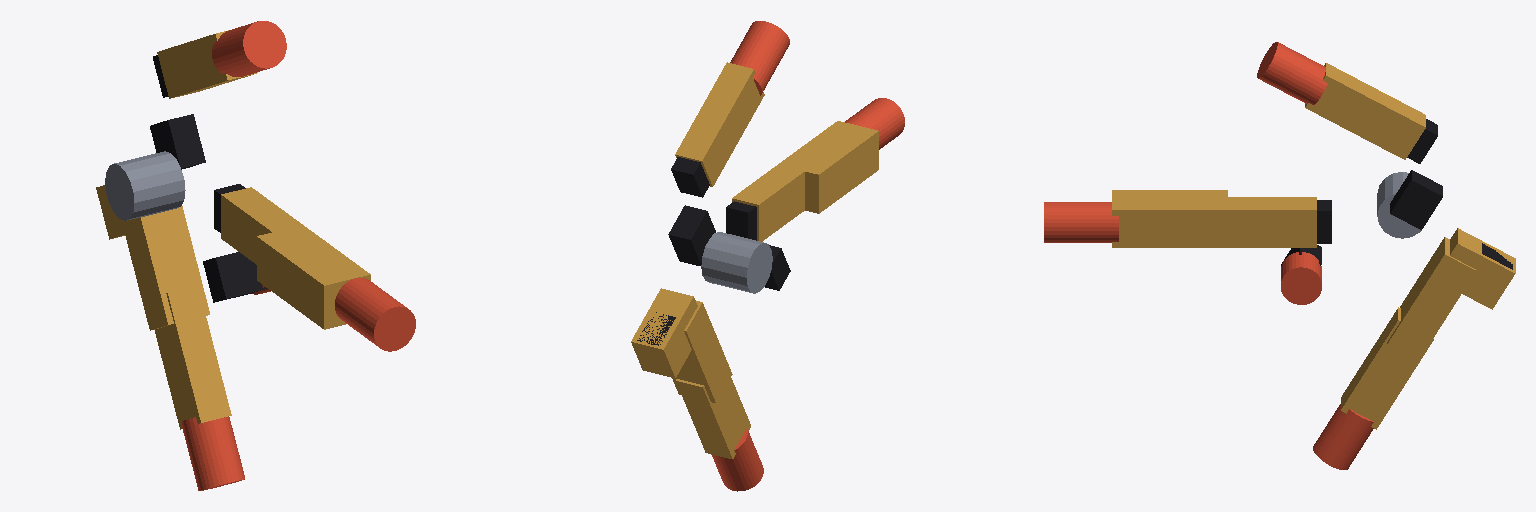
The robot description file, URDF, robot "g0040_c12":
<robot name="g0040_c12">
  <link name="palm">
    <visual name="palm_palm1">
      <origin xyz="0 0 0" rpy="0 0 0" />
      <geometry>
        <mesh filename="palm_palm1.obj" />
      </geometry>
      <material name="palm_palm1_mat">
        <color rgba="0.55 0.57 0.62 1" />
      </material>
    </visual>
    <collision>
      <origin xyz="0 0 0" rpy="0 0 0" />
      <geometry>
        <mesh filename="palm_palm1.obj" />
      </geometry>
    </collision>
    <visual name="palm_mount2">
      <origin xyz="0 0 0" rpy="0 0 0" />
      <geometry>
        <mesh filename="palm_mount2.obj" />
      </geometry>
      <material name="palm_mount2_mat">
        <color rgba="0.55 0.57 0.62 1" />
      </material>
    </visual>
    <collision>
      <origin xyz="0 0 0" rpy="0 0 0" />
      <geometry>
        <mesh filename="palm_mount2.obj" />
      </geometry>
    </collision>
    <visual name="palm_hinge3">
      <origin xyz="0 0.01125 0.0194855716" rpy="-1.57079633 0.523598776 1.57079633" />
      <geometry>
        <box size="0.029 0.034 0.02" />
      </geometry>
      <material name="palm_hinge3_mat">
        <color rgba="0.15 0.15 0.17 1" />
      </material>
    </visual>
    <collision>
      <origin xyz="0 0.01125 0.0194855716" rpy="-1.57079633 0.523598776 1.57079633" />
      <geometry>
        <box size="0.029 0.034 0.02" />
      </geometry>
    </collision>
    <visual name="palm_motor4">
      <origin xyz="-0.007 -0.08 -0.04" rpy="1.06057524e-16 -1.04719755 1.57079633" />
      <geometry>
        <box size="0.029 0.034 0.02" />
      </geometry>
      <material name="palm_motor4_mat">
        <color rgba="0.15 0.15 0.17 1" />
      </material>
    </visual>
    <collision>
      <origin xyz="-0.007 -0.08 -0.04" rpy="1.06057524e-16 -1.04719755 1.57079633" />
      <geometry>
        <box size="0.029 0.034 0.02" />
      </geometry>
    </collision>
    <visual name="palm_motor5">
      <origin xyz="0 -0.0725 1.37772765e-18" rpy="-0 -1.57079633 0" />
      <geometry>
        <box size="0.029 0.034 0.02" />
      </geometry>
      <material name="palm_motor5_mat">
        <color rgba="0.15 0.15 0.17 1" />
      </material>
    </visual>
    <collision>
      <origin xyz="0 -0.0725 1.37772765e-18" rpy="-0 -1.57079633 0" />
      <geometry>
        <box size="0.029 0.034 0.02" />
      </geometry>
    </collision>
    <visual name="palm_motor6">
      <origin xyz="-0.0045 0.0666996732 -0.0467548095" rpy="1.57079633 -0.523598776 -1.57079633" />
      <geometry>
        <box size="0.029 0.034 0.02" />
      </geometry>
      <material name="palm_motor6_mat">
        <color rgba="0.15 0.15 0.17 1" />
      </material>
    </visual>
    <collision>
      <origin xyz="-0.0045 0.0666996732 -0.0467548095" rpy="1.57079633 -0.523598776 -1.57079633" />
      <geometry>
        <box size="0.029 0.034 0.02" />
      </geometry>
    </collision>
    <inertial>
      <origin xyz="3.71811192e-19 -0.0129143429 -0.0183623571" rpy="1.57079633 0.271896852 1.57079633" />
      <mass value="0.664453576" />
      <inertia ixx="0.000524977352" ixy="0" ixz="0" iyy="0.00162295304" iyz="0" izz="0.00208414285" />
    </inertial>
  </link>
  <link name="palm0">
    <visual name="palm0_palm1">
      <origin xyz="0 0 0" rpy="0 0 0" />
      <geometry>
        <mesh filename="palm0_palm1.obj" />
      </geometry>
      <material name="palm0_palm1_mat">
        <color rgba="0.55 0.57 0.62 1" />
      </material>
    </visual>
    <collision>
      <origin xyz="0 0 0" rpy="0 0 0" />
      <geometry>
        <mesh filename="palm0_palm1.obj" />
      </geometry>
    </collision>
    <visual name="palm0_motor2">
      <origin xyz="0 -0.00850480947 0.0502692379" rpy="-1.57079633 -1.04719755 1.57079633" />
      <geometry>
        <box size="0.029 0.034 0.02" />
      </geometry>
      <material name="palm0_motor2_mat">
        <color rgba="0.15 0.15 0.17 1" />
      </material>
    </visual>
    <collision>
      <origin xyz="0 -0.00850480947 0.0502692379" rpy="-1.57079633 -1.04719755 1.57079633" />
      <geometry>
        <box size="0.029 0.034 0.02" />
      </geometry>
    </collision>
    <inertial>
      <origin xyz="0 0.000296623213 0.0290501618" rpy="1.57079633 0.698813385 1.57079633" />
      <mass value="0.183002711" />
      <inertia ixx="4.12828599e-05" ixy="0" ixz="0" iyy="0.000167965422" iyz="0" izz="0.000191680022" />
    </inertial>
  </link>
  <link name="f0_link0">
    <visual name="f0_link0_link1">
      <origin xyz="0.019 0 -6.9388939e-18" rpy="-1.57079633 -0 -1.57079633" />
      <geometry>
        <cylinder radius="0.0165" length="0.029" />
      </geometry>
      <material name="f0_link0_link1_mat">
        <color rgba="0.85 0.35 0.25 1" />
      </material>
    </visual>
    <collision>
      <origin xyz="0.019 0 -6.9388939e-18" rpy="-1.57079633 -0 -1.57079633" />
      <geometry>
        <cylinder radius="0.0165" length="0.029" />
      </geometry>
    </collision>
    <inertial>
      <origin xyz="0.019 0 0" rpy="0 0 0" />
      <mass value="0.0763354" />
      <inertia ixx="9.49466441e-06" ixy="0" ixz="0" iyy="2.24143997e-05" iyz="0" izz="2.24143997e-05" />
    </inertial>
  </link>
  <link name="f1_link0">
    <visual name="f1_link0_link1">
      <origin xyz="0.03375 0 0" rpy="0 -0 0" />
      <geometry>
        <box size="0.0915 0.024 0.033" />
      </geometry>
      <material name="f1_link0_link1_mat">
        <color rgba="0.80 0.62 0.30 1" />
      </material>
    </visual>
    <collision>
      <origin xyz="0.03375 0 0" rpy="0 -0 0" />
      <geometry>
        <box size="0.0915 0.024 0.033" />
      </geometry>
    </collision>
    <inertial>
      <origin xyz="0.03375 0 0" rpy="0 0 0" />
      <mass value="0.126819" />
      <inertia ixx="1.75961363e-05" ixy="0" ixz="0" iyy="9.99888553e-05" iyz="0" izz="9.45673431e-05" />
    </inertial>
  </link>
  <link name="f1_link1">
    <visual name="f1_link1_link1">
      <origin xyz="0.014 -0.00625 3.08148791e-33" rpy="0 -0 0" />
      <geometry>
        <box size="0.052 0.0365 0.033" />
      </geometry>
      <material name="f1_link1_link1_mat">
        <color rgba="0.80 0.62 0.30 1" />
      </material>
    </visual>
    <collision>
      <origin xyz="0.014 -0.00625 3.08148791e-33" rpy="0 -0 0" />
      <geometry>
        <box size="0.052 0.0365 0.033" />
      </geometry>
    </collision>
    <inertial>
      <origin xyz="0.014 -0.00625 0" rpy="0 0 0" />
      <mass value="0.1096095" />
      <inertia ixx="2.21160002e-05" ixy="0" ixz="0" iyy="3.46457361e-05" iyz="0" izz="3.6867612e-05" />
    </inertial>
  </link>
  <link name="f1_link2">
    <visual name="f1_link2_link1">
      <origin xyz="0.019 -0.00625 3.08148791e-33" rpy="0 -0 0" />
      <geometry>
        <box size="0.062 0.0365 0.033" />
      </geometry>
      <material name="f1_link2_link1_mat">
        <color rgba="0.80 0.62 0.30 1" />
      </material>
    </visual>
    <collision>
      <origin xyz="0.019 -0.00625 3.08148791e-33" rpy="0 -0 0" />
      <geometry>
        <box size="0.062 0.0365 0.033" />
      </geometry>
    </collision>
    <inertial>
      <origin xyz="0.019 -0.00625 0" rpy="0 0 0" />
      <mass value="0.13068825" />
      <inertia ixx="2.63690771e-05" ixy="0" ixz="0" iyy="5.37237614e-05" iyz="0" izz="5.63729212e-05" />
    </inertial>
  </link>
  <link name="f1_link3">
    <visual name="f1_link3_link1">
      <origin xyz="0.034 0 1.54074396e-33" rpy="-1.57079633 -0 -1.57079633" />
      <geometry>
        <cylinder radius="0.0165" length="0.059" />
      </geometry>
      <material name="f1_link3_link1_mat">
        <color rgba="0.85 0.35 0.25 1" />
      </material>
    </visual>
    <collision>
      <origin xyz="0.034 0 1.54074396e-33" rpy="-1.57079633 -0 -1.57079633" />
      <geometry>
        <cylinder radius="0.0165" length="0.059" />
      </geometry>
    </collision>
    <inertial>
      <origin xyz="0.034 0 0" rpy="0 0 0" />
      <mass value="0.121238577" />
      <inertia ixx="1.56071093e-05" ixy="0" ixz="0" iyy="7.58912764e-05" iyz="0" izz="7.58912764e-05" />
    </inertial>
  </link>
  <link name="f2_link0">
    <visual name="f2_link0_link1">
      <origin xyz="0.03375 0 0" rpy="0 7.03853194e-17 0" />
      <geometry>
        <box size="0.0915 0.024 0.033" />
      </geometry>
      <material name="f2_link0_link1_mat">
        <color rgba="0.80 0.62 0.30 1" />
      </material>
    </visual>
    <collision>
      <origin xyz="0.03375 0 0" rpy="0 7.03853194e-17 0" />
      <geometry>
        <box size="0.0915 0.024 0.033" />
      </geometry>
    </collision>
    <inertial>
      <origin xyz="0.03375 0 0" rpy="0 0 0" />
      <mass value="0.126819" />
      <inertia ixx="1.75961363e-05" ixy="0" ixz="0" iyy="9.99888553e-05" iyz="0" izz="9.45673431e-05" />
    </inertial>
  </link>
  <link name="f2_link1">
    <visual name="f2_link1_link1">
      <origin xyz="0.029 0 -6.9388939e-18" rpy="-1.57079633 -0 -1.57079633" />
      <geometry>
        <cylinder radius="0.0165" length="0.049" />
      </geometry>
      <material name="f2_link1_link1_mat">
        <color rgba="0.85 0.35 0.25 1" />
      </material>
    </visual>
    <collision>
      <origin xyz="0.029 0 -6.9388939e-18" rpy="-1.57079633 -0 -1.57079633" />
      <geometry>
        <cylinder radius="0.0165" length="0.049" />
      </geometry>
    </collision>
    <inertial>
      <origin xyz="0.029 0 0" rpy="0 0 0" />
      <mass value="0.106270851" />
      <inertia ixx="1.35696277e-05" ixy="0" ixz="0" iyy="5.30015704e-05" iyz="0" izz="5.30015704e-05" />
    </inertial>
  </link>
  <link name="f3_link0">
    <visual name="f3_link0_link1">
      <origin xyz="-0.00625 0 -0.0165" rpy="0 4.06369831e-17 0" />
      <geometry>
        <box size="0.0365 0.029 0.053" />
      </geometry>
      <material name="f3_link0_link1_mat">
        <color rgba="0.80 0.62 0.30 1" />
      </material>
    </visual>
    <collision>
      <origin xyz="-0.00625 0 -0.0165" rpy="0 4.06369831e-17 0" />
      <geometry>
        <box size="0.0365 0.029 0.053" />
      </geometry>
    </collision>
    <inertial>
      <origin xyz="-0.00625 0 -0.0165" rpy="0 0 0" />
      <mass value="0.098175875" />
      <inertia ixx="2.98618286e-05" ixy="0" ixz="0" iyy="3.38809035e-05" iyz="0" izz="1.778006e-05" />
    </inertial>
  </link>
  <link name="f3_link1">
    <visual name="f3_link1_link1">
      <origin xyz="0.03375 0 6.9388939e-18" rpy="0 4.06369831e-17 0" />
      <geometry>
        <box size="0.0915 0.033 0.029" />
      </geometry>
      <material name="f3_link1_link1_mat">
        <color rgba="0.80 0.62 0.30 1" />
      </material>
    </visual>
    <collision>
      <origin xyz="0.03375 0 6.9388939e-18" rpy="0 4.06369831e-17 0" />
      <geometry>
        <box size="0.0915 0.033 0.029" />
      </geometry>
    </collision>
    <inertial>
      <origin xyz="0.03375 0 0" rpy="0 0 0" />
      <mass value="0.153239625" />
      <inertia ixx="2.46460397e-05" ixy="0" ixz="0" iyy="0.000117652915" iyz="0" izz="0.000120819867" />
    </inertial>
  </link>
  <link name="f3_link2">
    <visual name="f3_link2_link1">
      <origin xyz="0.03375 0 -1.38777878e-17" rpy="0 4.06369831e-17 0" />
      <geometry>
        <box size="0.0915 0.024 0.033" />
      </geometry>
      <material name="f3_link2_link1_mat">
        <color rgba="0.80 0.62 0.30 1" />
      </material>
    </visual>
    <collision>
      <origin xyz="0.03375 0 -1.38777878e-17" rpy="0 4.06369831e-17 0" />
      <geometry>
        <box size="0.0915 0.024 0.033" />
      </geometry>
    </collision>
    <inertial>
      <origin xyz="0.03375 0 0" rpy="0 0 0" />
      <mass value="0.126819" />
      <inertia ixx="1.75961363e-05" ixy="0" ixz="0" iyy="9.99888553e-05" iyz="0" izz="9.45673431e-05" />
    </inertial>
  </link>
  <link name="f3_link3">
    <visual name="f3_link3_link1">
      <origin xyz="0.029 0 1.04083409e-17" rpy="-1.57079633 -0 -1.57079633" />
      <geometry>
        <cylinder radius="0.0165" length="0.049" />
      </geometry>
      <material name="f3_link3_link1_mat">
        <color rgba="0.85 0.35 0.25 1" />
      </material>
    </visual>
    <collision>
      <origin xyz="0.029 0 1.04083409e-17" rpy="-1.57079633 -0 -1.57079633" />
      <geometry>
        <cylinder radius="0.0165" length="0.049" />
      </geometry>
    </collision>
    <inertial>
      <origin xyz="0.029 0 0" rpy="0 0 0" />
      <mass value="0.106270851" />
      <inertia ixx="1.35696277e-05" ixy="0" ixz="0" iyy="5.30015704e-05" iyz="0" izz="5.30015704e-05" />
    </inertial>
  </link>
  <joint name="palm0_joint" type="revolute">
    <parent link="palm" />
    <child link="palm0" />
    <origin xyz="0 0.015 0.0259807621" rpy="0 0 0" />
    <axis xyz="0 0.866025404 -0.5" />
    <limit effort="0.5" lower="-0.523598776" upper="0.523598776" velocity="5" />
    <dynamics damping="0.0775033" friction="0" />
  </joint>
  <joint name="f0_j0" type="revolute">
    <parent link="palm" />
    <child link="f0_link0" />
    <origin xyz="0.0005 -0.08 -0.04" rpy="1.04719755 5.30287619e-17 -3.061617e-17" />
    <axis xyz="0 1 6.123234e-17" />
    <limit effort="0.5" lower="-0.523598776" upper="0.523598776" velocity="5" />
    <dynamics damping="0.0775033" friction="0" />
  </joint>
  <joint name="f1_j0" type="revolute">
    <parent link="palm" />
    <child link="f1_link0" />
    <origin xyz="0 -0.08 0" rpy="0 1.8369702e-16 -1.57079633" />
    <axis xyz="0 0 1" />
    <limit effort="0.5" lower="-0.523598776" upper="1.57079633" velocity="5" />
    <dynamics damping="0.0775033" friction="0" />
  </joint>
  <joint name="f1_j1" type="revolute">
    <parent link="f1_link0" />
    <child link="f1_link1" />
    <origin xyz="0.07 0 0" rpy="0 0 0" />
    <axis xyz="0 0 1" />
    <limit effort="0.5" lower="-0.523598776" upper="1.57079633" velocity="5" />
    <dynamics damping="0.0775033" friction="0" />
  </joint>
  <joint name="f1_j2" type="revolute">
    <parent link="f1_link1" />
    <child link="f1_link2" />
    <origin xyz="0.03 0 0" rpy="0 0 0" />
    <axis xyz="0 0 1" />
    <limit effort="0.5" lower="-0.523598776" upper="1.57079633" velocity="5" />
    <dynamics damping="0.0775033" friction="0" />
  </joint>
  <joint name="f1_j3" type="revolute">
    <parent link="f1_link2" />
    <child link="f1_link3" />
    <origin xyz="0.04 0 0" rpy="0 0 0" />
    <axis xyz="0 0 1" />
    <limit effort="0.5" lower="-0.523598776" upper="1.57079633" velocity="5" />
    <dynamics damping="0.0775033" friction="0" />
  </joint>
  <joint name="f2_j0" type="revolute">
    <parent link="palm0" />
    <child link="f2_link0" />
    <origin xyz="0 -0.015 0.0540192379" rpy="-0 -0.523598776 -1.57079633" />
    <axis xyz="0 0 1" />
    <limit effort="0.5" lower="-0.523598776" upper="1.57079633" velocity="5" />
    <dynamics damping="0.0775033" friction="0" />
  </joint>
  <joint name="f2_j1" type="revolute">
    <parent link="f2_link0" />
    <child link="f2_link1" />
    <origin xyz="0.07 0 0" rpy="0 0 0" />
    <axis xyz="0 0 1" />
    <limit effort="0.5" lower="-0.523598776" upper="1.57079633" velocity="5" />
    <dynamics damping="0.0775033" friction="0" />
  </joint>
  <joint name="f3_j0" type="revolute">
    <parent link="palm" />
    <child link="f3_link0" />
    <origin xyz="-0.0045 0.04 -0.04" rpy="0 1.04719755 -1.57079633" />
    <axis xyz="0 0 1" />
    <limit effort="0.5" lower="-0.523598776" upper="1.57079633" velocity="5" />
    <dynamics damping="0.0775033" friction="0" />
  </joint>
  <joint name="f3_j1" type="revolute">
    <parent link="f3_link0" />
    <child link="f3_link1" />
    <origin xyz="0 0 0" rpy="0 0 0" />
    <axis xyz="0 1 6.123234e-17" />
    <limit effort="0.5" lower="-0.523598776" upper="0.523598776" velocity="5" />
    <dynamics damping="0.0775033" friction="0" />
  </joint>
  <joint name="f3_j2" type="revolute">
    <parent link="f3_link1" />
    <child link="f3_link2" />
    <origin xyz="0.07 0 0" rpy="0 0 0" />
    <axis xyz="0 0 1" />
    <limit effort="0.5" lower="-0.523598776" upper="1.57079633" velocity="5" />
    <dynamics damping="0.0775033" friction="0" />
  </joint>
  <joint name="f3_j3" type="revolute">
    <parent link="f3_link2" />
    <child link="f3_link3" />
    <origin xyz="0.07 0 0" rpy="0 0 0" />
    <axis xyz="0 0 1" />
    <limit effort="0.5" lower="-0.523598776" upper="1.57079633" velocity="5" />
    <dynamics damping="0.0775033" friction="0" />
  </joint>
</robot>

--- Render facts (derived) ---
Views: 3 orthographic renders of the robot side by side, from view 1: azimuth 30°, elevation 25°; view 2: azimuth 150°, elevation 25°; view 3: azimuth 270°, elevation 25°.
Robot: g0040_c12 — 13 links, 12 joints (12 revolute); root link palm; default pose: all joints at 0.
Links seen in each view (by area): view 1: palm, f3_link2, f3_link1, f1_link2, f1_link3, f1_link0, f3_link3, f2_link1, f2_link0, f1_link1, f3_link0; view 2: palm, f2_link0, f3_link0, f1_link0, f3_link2, f3_link1, f1_link2, f1_link1, f2_link1, f3_link3, f1_link3, palm0; view 3: f1_link0, f2_link0, f3_link1, palm, f3_link2, f1_link2, f1_link3, f2_link1, f3_link0, f1_link1, f3_link3, f0_link0 (+1 smaller).
Link boxes in pixels (<box>): palm: <box>105,114,267,302</box>; f3_link2: <box>155,285,231,429</box>; f3_link1: <box>121,206,209,330</box>; f1_link2: <box>279,241,370,329</box>; f1_link3: <box>335,278,415,351</box>; f1_link0: <box>221,187,318,264</box>; f3_link3: <box>181,417,244,490</box>; f2_link1: <box>212,21,286,76</box>; f2_link0: <box>157,30,257,98</box>; f1_link1: <box>257,230,340,295</box>; f3_link0: <box>96,185,124,239</box>; palm: <box>637,201,790,345</box>; f2_link0: <box>675,62,764,186</box>; f3_link0: <box>631,288,697,378</box>; f1_link0: <box>732,155,817,241</box>; f3_link2: <box>676,378,750,458</box>; f3_link1: <box>672,301,732,402</box>; f1_link2: <box>801,121,878,194</box>; f1_link1: <box>778,140,852,213</box>; f2_link1: <box>730,21,789,95</box>; f3_link3: <box>711,429,763,491</box>; f1_link3: <box>845,98,904,149</box>; palm0: <box>671,157,709,197</box>; f1_link0: <box>1201,197,1316,247</box>; f2_link0: <box>1305,63,1425,159</box>; f3_link1: <box>1387,237,1475,361</box>; palm: <box>1281,170,1512,269</box>; f3_link2: <box>1341,307,1433,429</box>; f1_link2: <box>1112,190,1189,247</box>; f1_link3: <box>1044,202,1118,242</box>; f2_link1: <box>1257,42,1327,104</box>; f3_link0: <box>1450,228,1515,309</box>; f1_link1: <box>1163,190,1227,247</box>; f3_link3: <box>1313,404,1373,469</box>; f0_link0: <box>1281,252,1321,304</box>.
Size in the robot's own frame: 0.086 by 0.373 by 0.3719 metres.
Meshes: 3 distinct files referenced, 1 mesh visuals loaded (1 OBJ); not drawn: 2 (reference not matched to a file when rendering).
